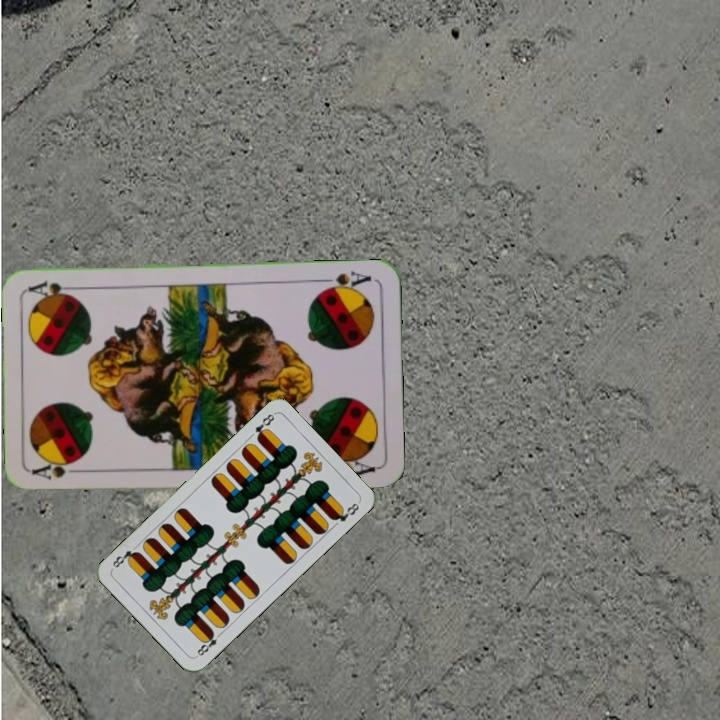E8: (192, 628, 225, 659), (251, 410, 277, 443)
SA: (316, 267, 374, 294), (29, 458, 88, 482)
